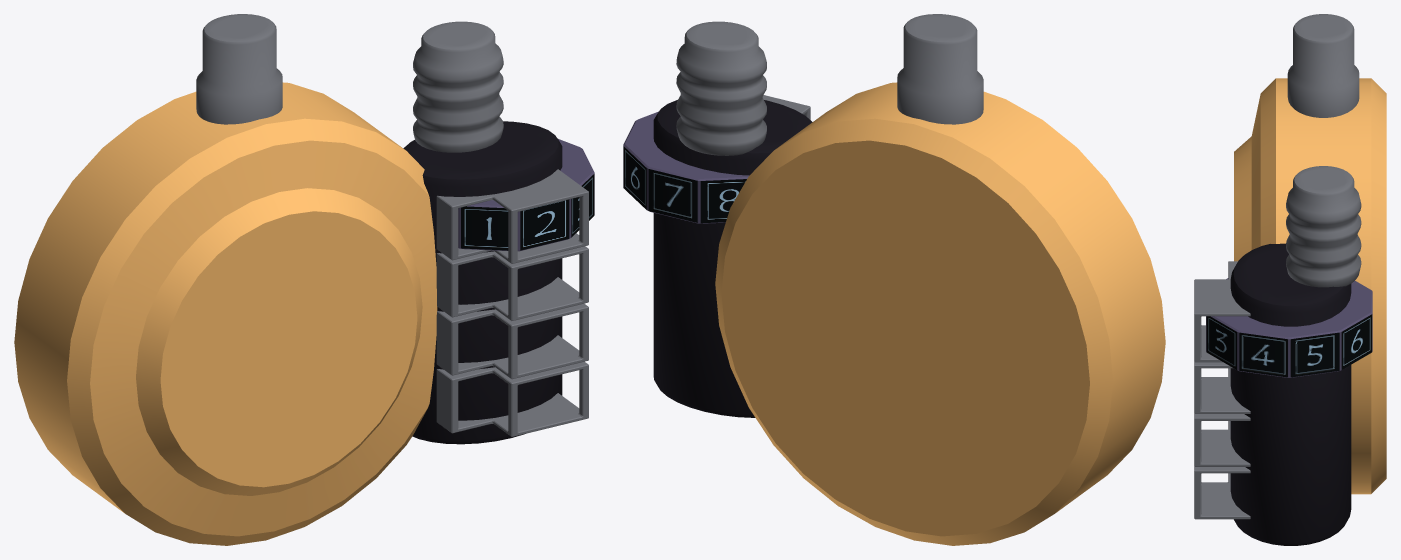
The model's file is LockModel.fbx.
The picture shows the model from 3 angles, left to right: view 1: azimuth 30°, elevation 25°; view 2: azimuth 150°, elevation 25°; view 3: azimuth 270°, elevation 25°; orthographic projection. The views are drawn at different scales.
Visible parts, largest first — view 1: Lock, count box, Cylinder.001, Cylinder.002, Cylinder.007, row_1; view 2: Lock, Cylinder.001, Cylinder.002, Cylinder.007, row_1; view 3: Cylinder.001, Lock, row_1, count box, Cylinder.002, Cylinder.007.
Boxes of the visible parts, box(x1,y1,x2,y2) form: Lock: box(14, 82, 437, 545); count box: box(436, 169, 588, 436); Cylinder.001: box(403, 121, 562, 444); Cylinder.002: box(413, 21, 503, 152); Cylinder.007: box(196, 14, 282, 124); row_1: box(458, 139, 594, 251); Lock: box(715, 82, 1165, 545); Cylinder.001: box(653, 100, 812, 417); Cylinder.002: box(676, 21, 766, 155); Cylinder.007: box(897, 14, 983, 124); row_1: box(623, 111, 749, 223); Cylinder.001: box(1230, 243, 1351, 545); Lock: box(1234, 78, 1386, 494); row_1: box(1206, 278, 1372, 377); count box: box(1194, 261, 1250, 519); Cylinder.002: box(1286, 166, 1361, 287); Cylinder.007: box(1287, 14, 1359, 117).
Bounding box in the file's own units: 44.91 × 40.58 × 15.78.
5 materials, 1 textured.
